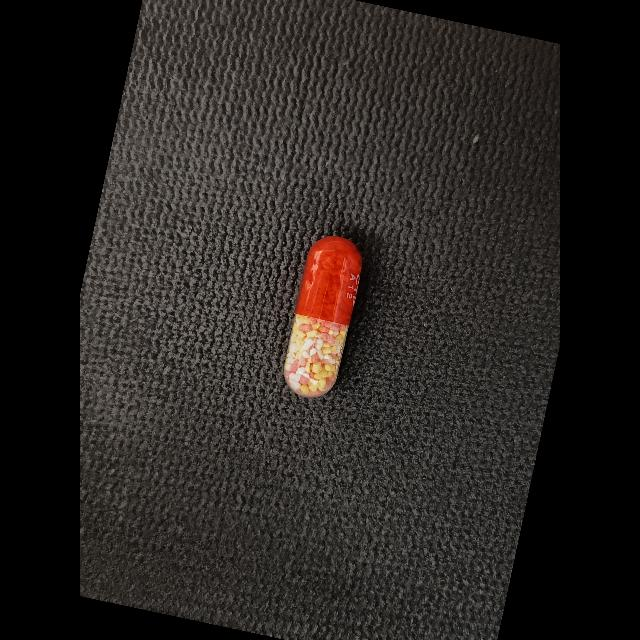Intact Capsule: (284, 236, 362, 398)
